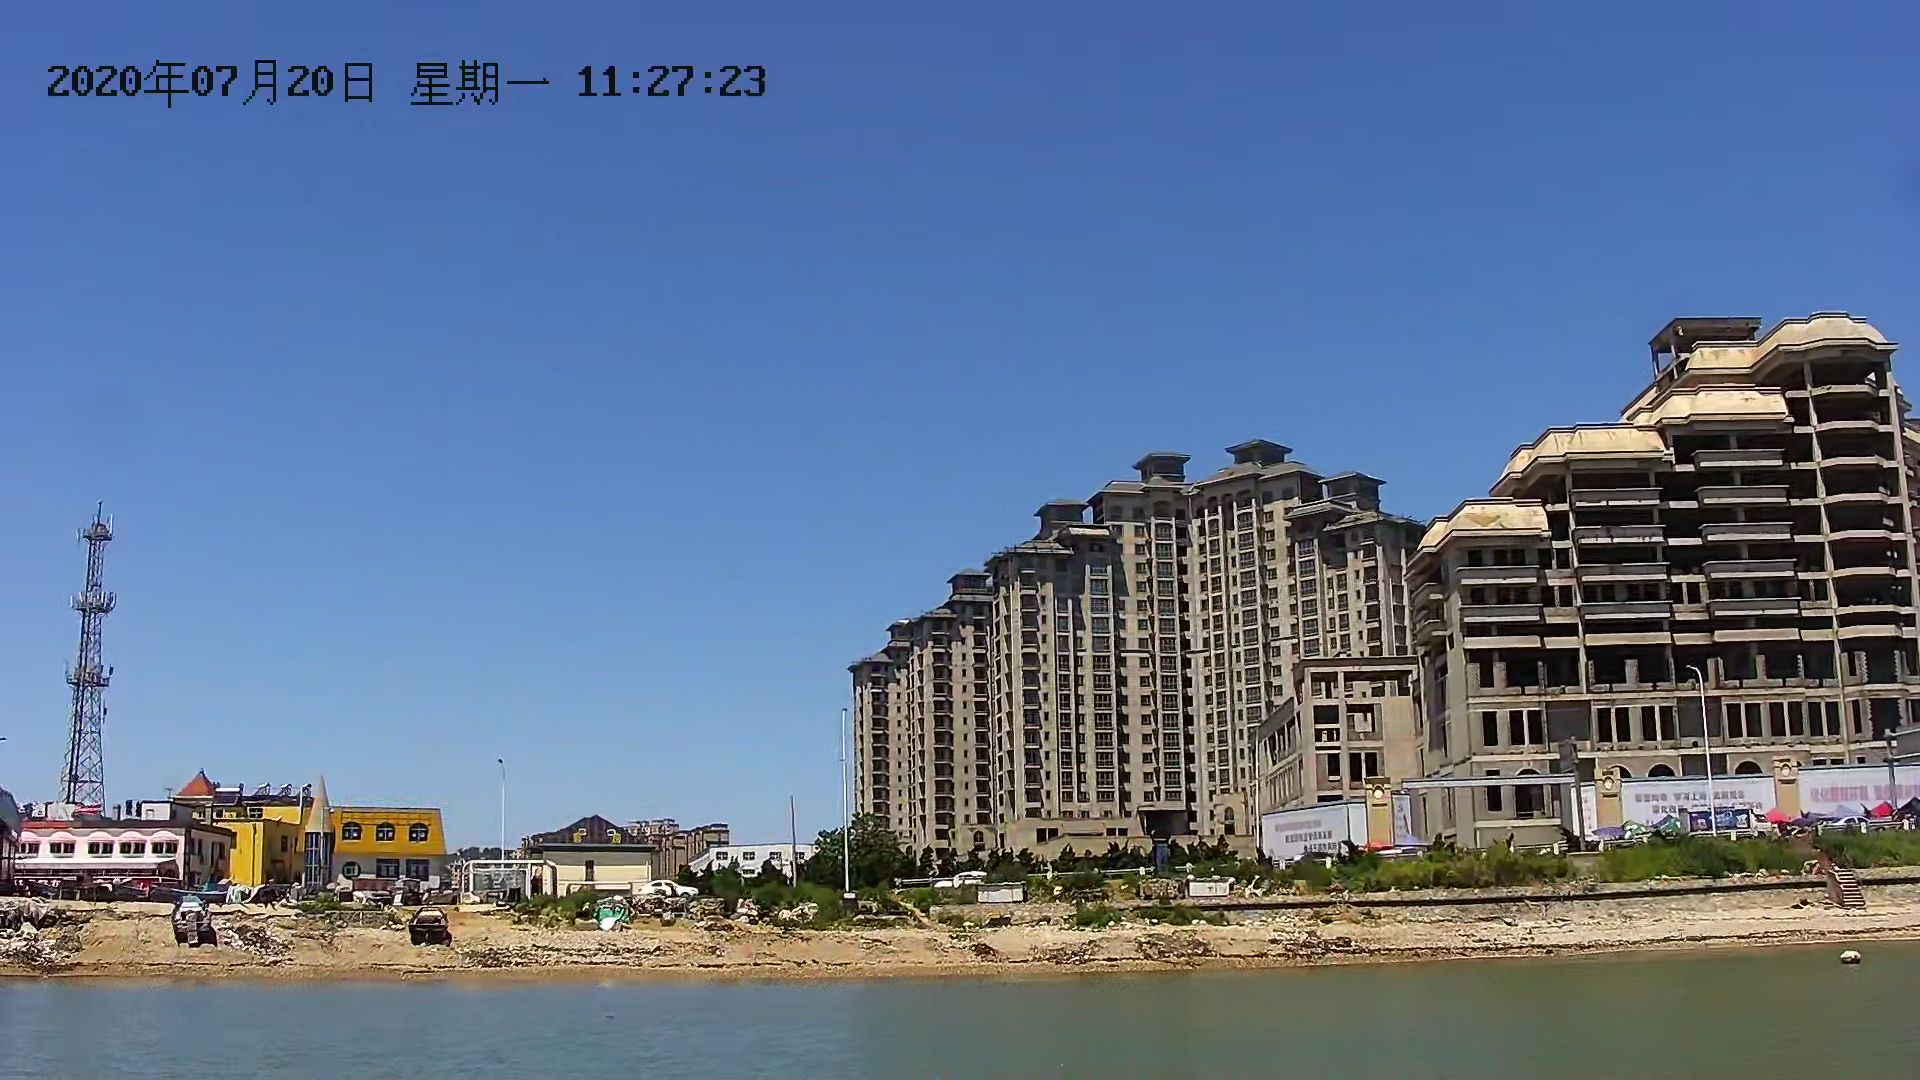ball: (1833, 949, 1869, 967)
